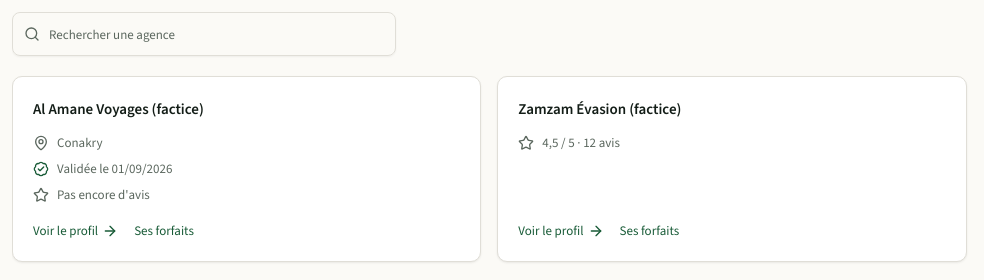
Scenario: AgencyDirectoryScreen (idée #71) › filtre par nom, sans tenir compte des accents
Expected: the heading "Al Amane Voyages (factice)" is shown, [33,97,204,121]
Step 1. Type "evasion" into the search field → (204, 34), box [12,12,396,56]
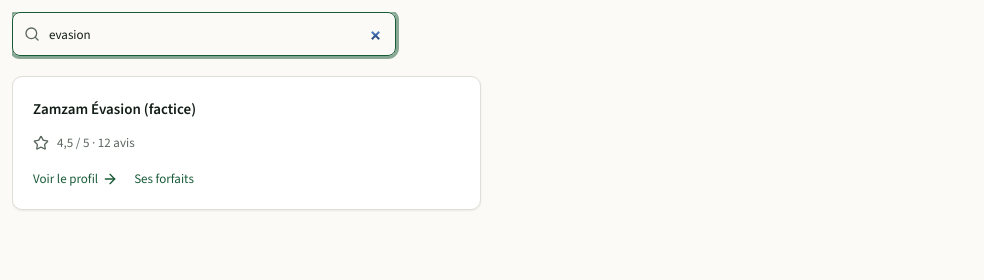
Expected: the heading "Zamzam Évasion (factice)" is shown, [33,97,196,121]
Now the heading "Al Amane Voyages (factice)" is gone
